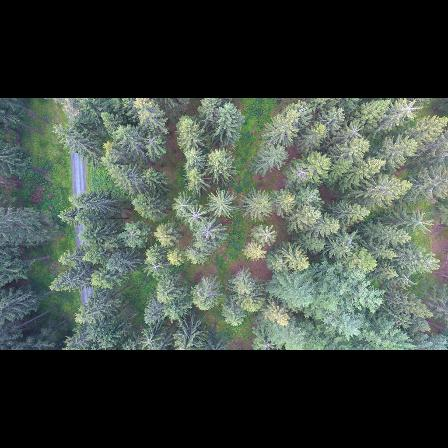Sick: (119, 220, 145, 247), (182, 200, 208, 225), (198, 218, 221, 241), (398, 98, 423, 119), (344, 121, 365, 139)
